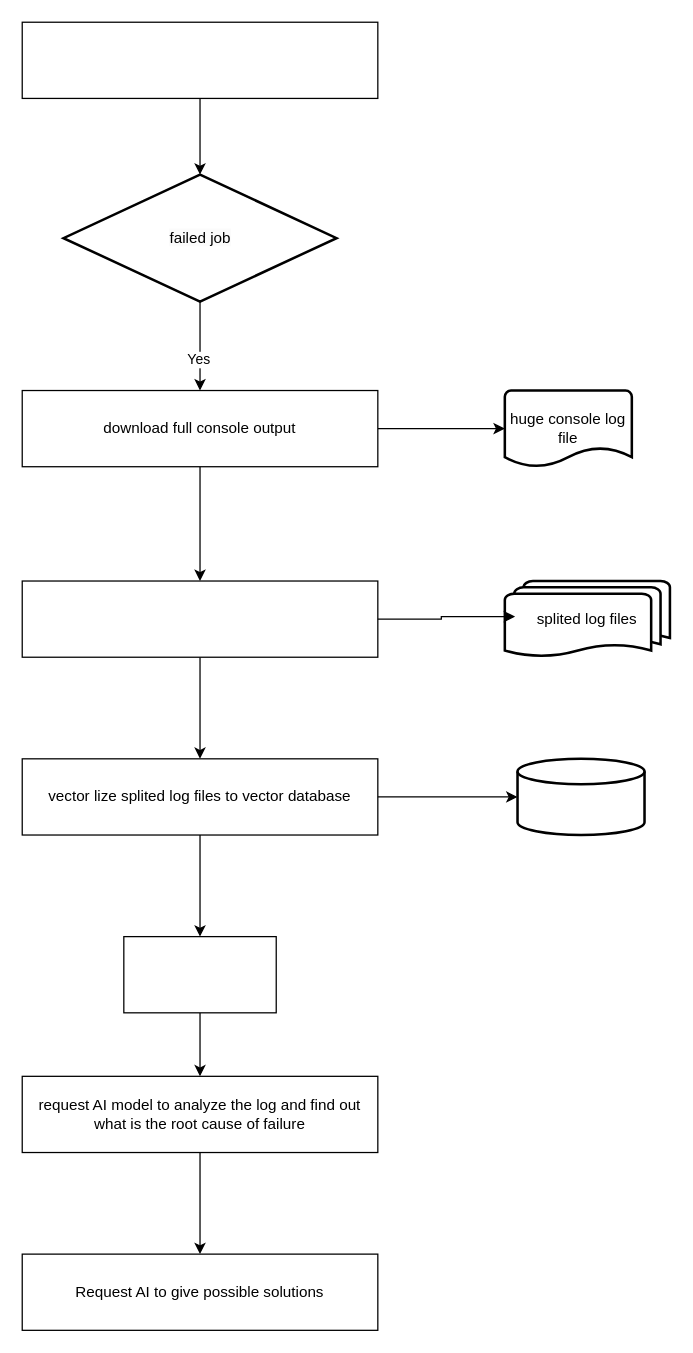
This 693x1353 diagram has some shape labels left out. The shapes that lost their labels are listed below. From the top down, each one's box as (x1, y1, x2, y2) in pixels, then its label:
(21, 21, 378, 98): minitor jenkins jobs status
(21, 580, 378, 657): split log file into 5M sized files
(516, 757, 645, 836): vector DB
(123, 935, 276, 1013): retrieve job parameters
